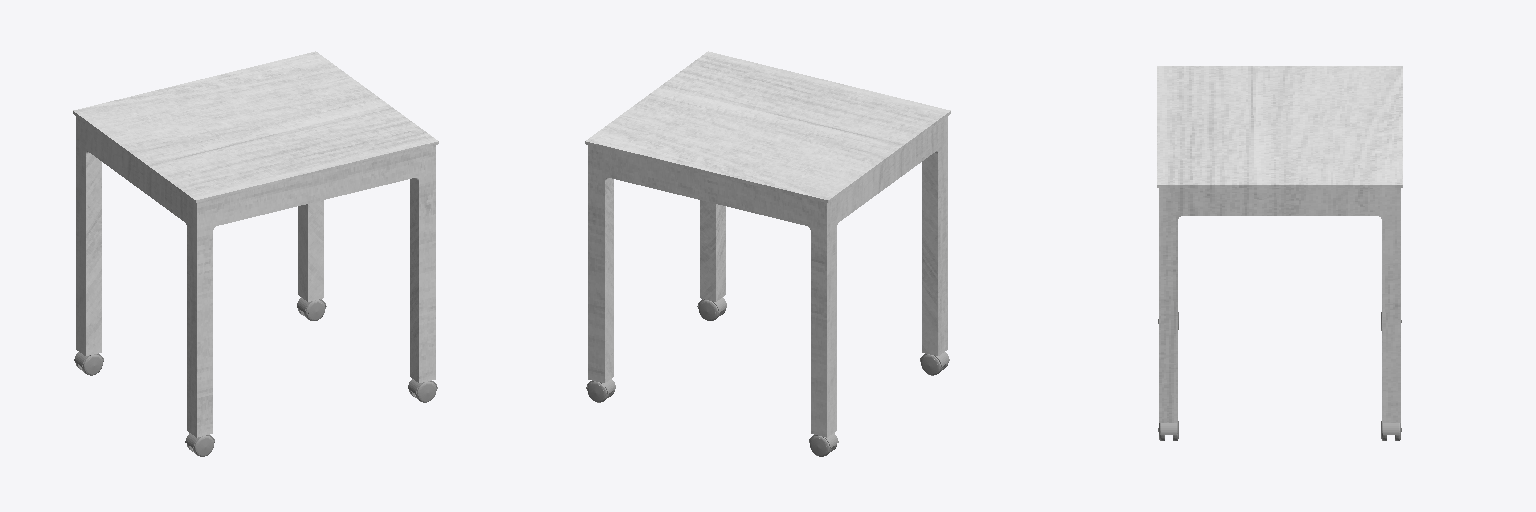
The picture shows the model from 3 angles: view 1: azimuth 30°, elevation 25°; view 2: azimuth 150°, elevation 25°; view 3: azimuth 270°, elevation 25°; orthographic projection.
Visible parts, largest first — view 1: Table; view 2: Table; view 3: Table.
Boxes of the visible parts, <box> form: Table: <box>73,51,438,437</box>; Table: <box>585,51,950,437</box>; Table: <box>1157,66,1402,422</box>.
Size of the model in its own units: 80.48 by 81.79 by 70.
2 materials, 1 textured.